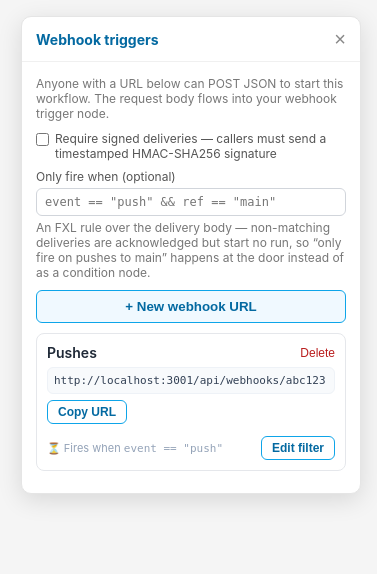
Test case: WebhookPanel gate expressions › surfaces a server validation error and keeps the editor open
Click the button "Edit filter".
click(298, 448)  # box [261, 436, 335, 460]
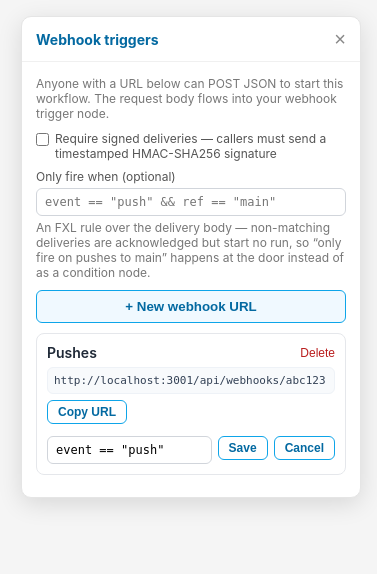
Type "event ==" into the field named "Gate expression".
click(129, 450); type("event ==")  # box [47, 436, 212, 464]
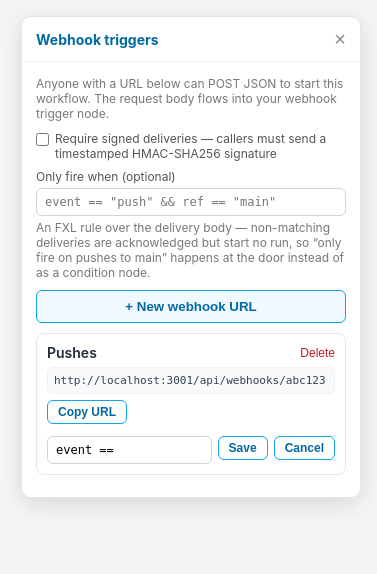
Click the button "Save".
click(243, 448)  # box [218, 436, 268, 460]
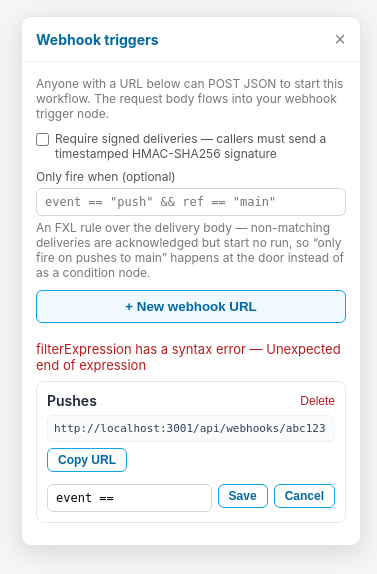
Check: the text "syntax error" is shown, box [36, 341, 341, 373]
